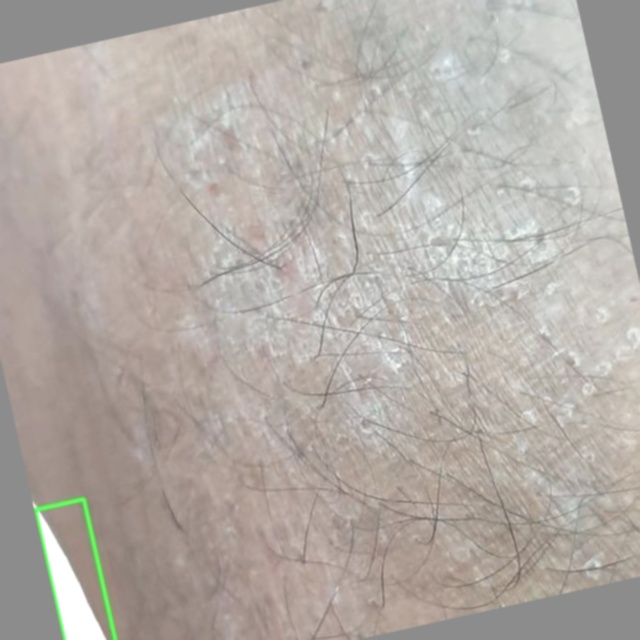Contact Dermatitis: (34, 499, 115, 639)
